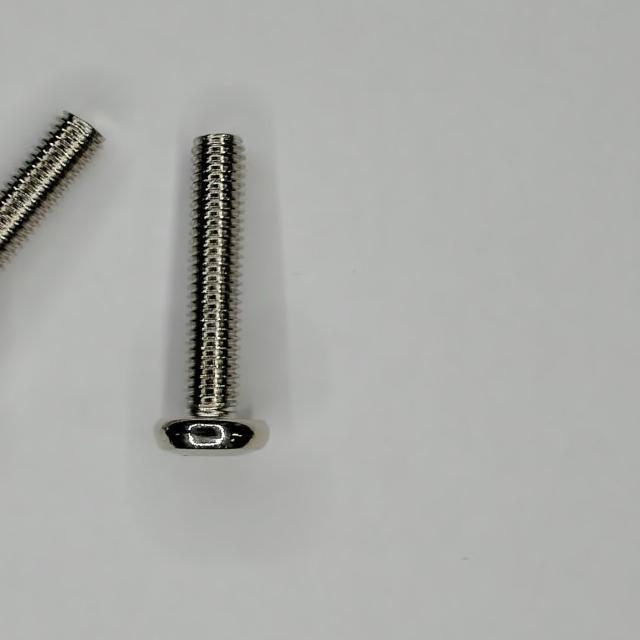Screw: (161, 133, 269, 454), (0, 112, 103, 266)
